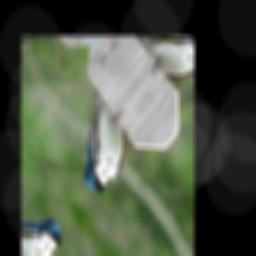Swallow: (53, 77, 148, 205)
